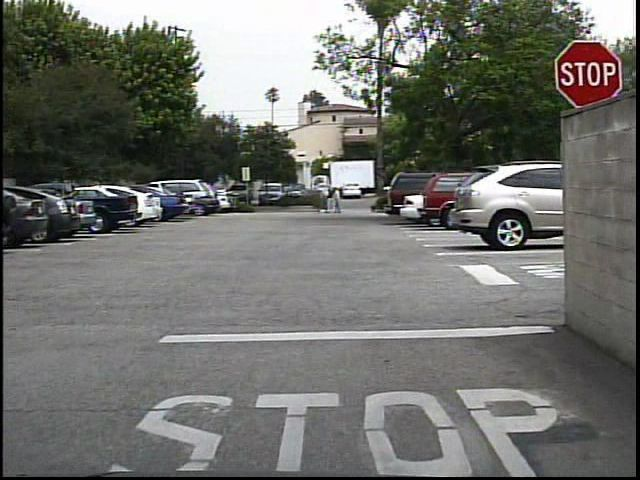person: (331, 186, 349, 217), (316, 186, 331, 215), (334, 186, 335, 217)
